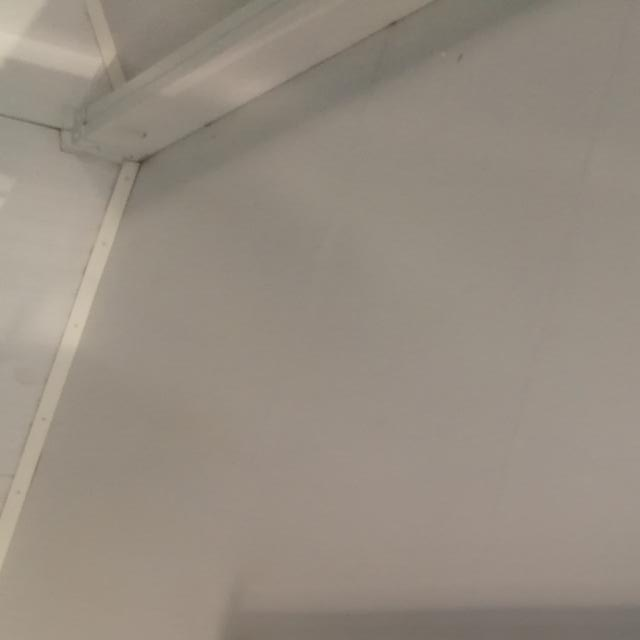fluorescent tube: (149, 626, 640, 640)
